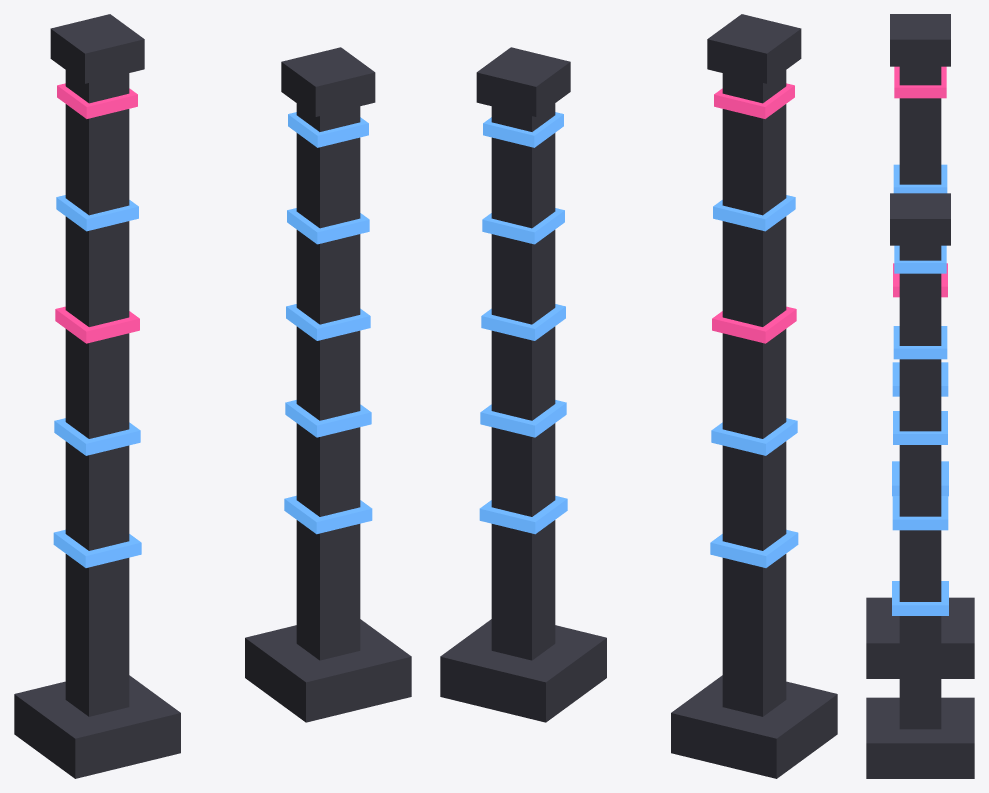
The model's file is runtime.glb.
The picture shows the model from 3 angles, left to right: view 1: azimuth 30°, elevation 25°; view 2: azimuth 150°, elevation 25°; view 3: azimuth 270°, elevation 25°; orthographic projection. The views are drawn at different scales.
Visible parts, largest first — view 1: neon_pylon_post_nocol, neon_pylon_band_blue_noshadow_nocol, neon_pylon_band_red_noshadow_nocol; view 2: neon_pylon_post_nocol, neon_pylon_band_blue_noshadow_nocol, neon_pylon_band_red_noshadow_nocol; view 3: neon_pylon_post_nocol, neon_pylon_band_blue_noshadow_nocol, neon_pylon_band_red_noshadow_nocol.
Boxes of the visible parts, x1,y1,x2,y2 form: neon_pylon_post_nocol: (14,14,411,778); neon_pylon_band_blue_noshadow_nocol: (53,112,372,567); neon_pylon_band_red_noshadow_nocol: (55,83,139,343); neon_pylon_post_nocol: (440,14,837,778); neon_pylon_band_blue_noshadow_nocol: (479,112,798,567); neon_pylon_band_red_noshadow_nocol: (712,83,796,343); neon_pylon_post_nocol: (866,14,974,778); neon_pylon_band_blue_noshadow_nocol: (892,164,948,615); neon_pylon_band_red_noshadow_nocol: (893,66,947,297).
Size of the model in its own units: 3.5 by 7.05 by 1.1.
